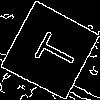T: (25, 25, 80, 75)
